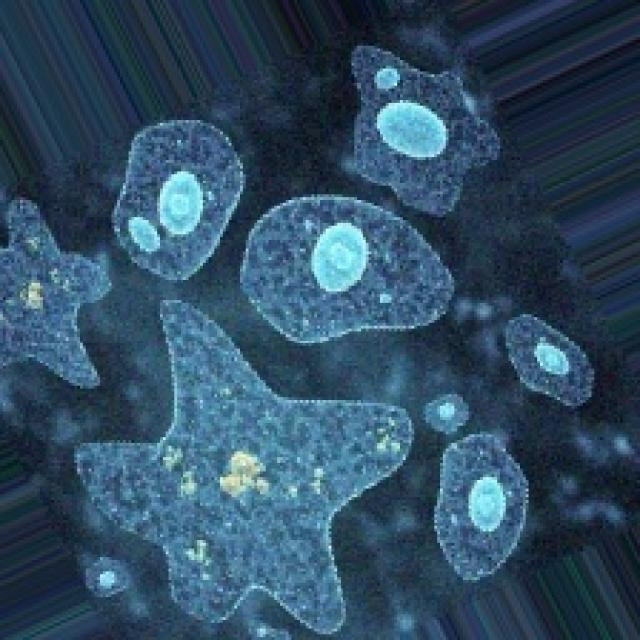Amoeba: (69, 297, 414, 637)
